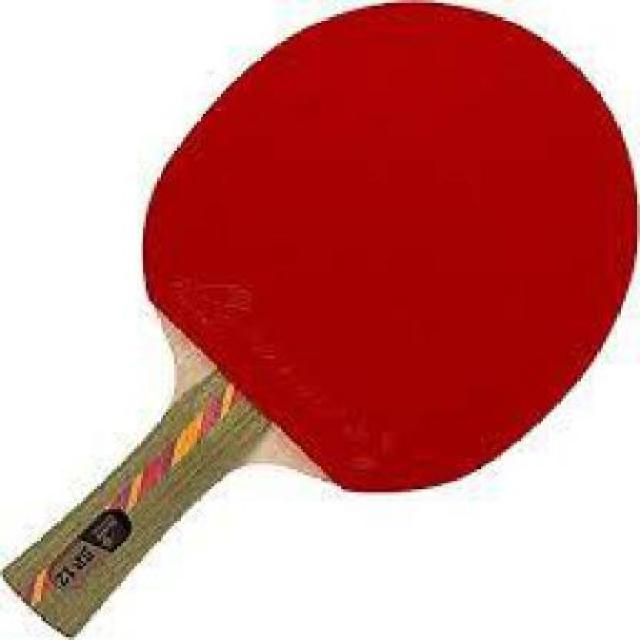table_tennis_racket: (134, 1, 638, 498)
